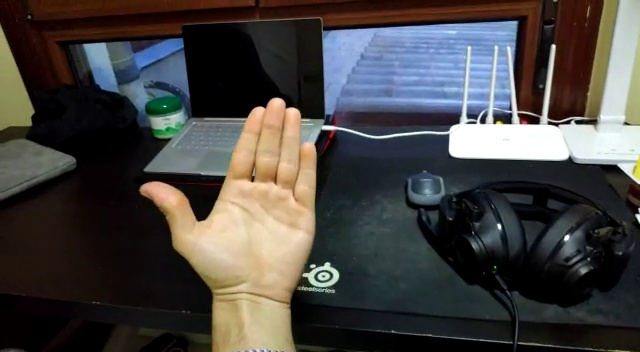Palm: (137, 95, 320, 315)
